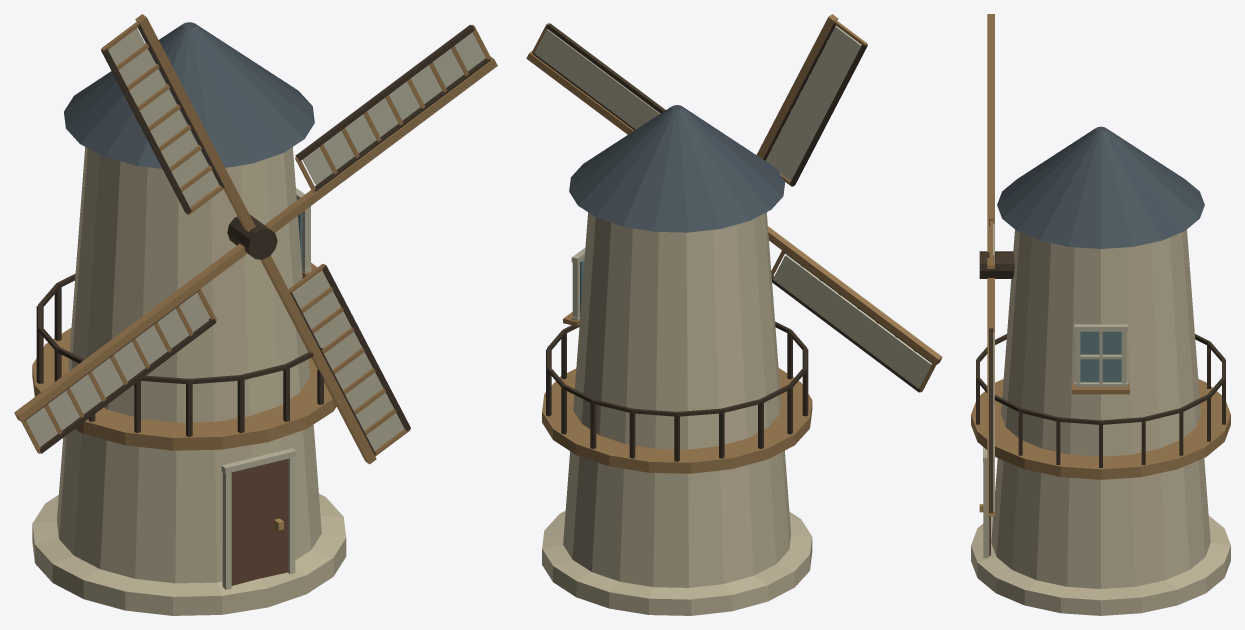
Rendered from Building_Landmark_Windmill_001.glb.
3 views of the same model, side by side, from view 1: azimuth 30°, elevation 25°; view 2: azimuth 150°, elevation 25°; view 3: azimuth 270°, elevation 25° (orthographic). The views are drawn at different scales.
Parts seen in each view (by area): view 1: Building_Landmark_Windmill_001; view 2: Building_Landmark_Windmill_001; view 3: Building_Landmark_Windmill_001.
Part boxes in pixels (left/top/right/bottom): Building_Landmark_Windmill_001: left=14, top=14, right=497, bottom=615; Building_Landmark_Windmill_001: left=526, top=14, right=942, bottom=615; Building_Landmark_Windmill_001: left=971, top=14, right=1230, bottom=615.
Size of the model in its own units: 7.89 by 9.6 by 4.5.
